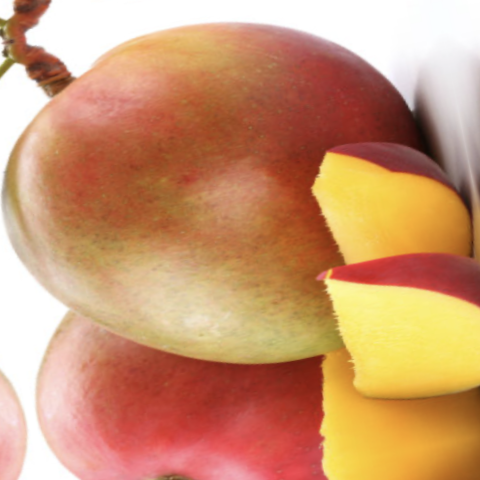mango: (0, 0, 469, 432)
